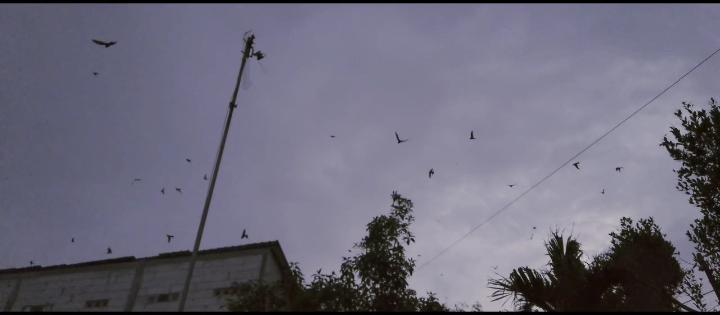walet: (91, 38, 115, 48), (395, 132, 408, 144), (165, 232, 173, 244), (239, 228, 247, 239), (468, 129, 474, 141), (428, 166, 434, 178)
